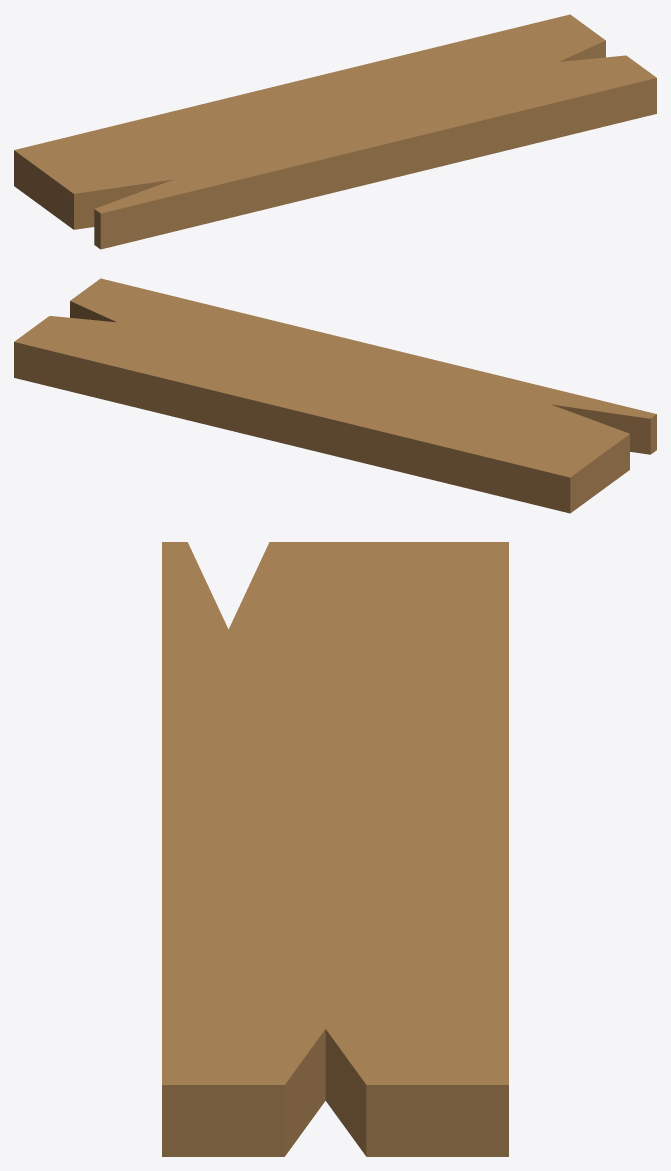
File: SRA_Wood_Plank_Single_03.glb
3 renders of one model, top to bottom at view 1: azimuth 30°, elevation 25°; view 2: azimuth 150°, elevation 25°; view 3: azimuth 270°, elevation 25°, orthographic. The views are drawn at different scales.
Parts seen in each view (by area): view 1: Wood_Plank_Single_03; view 2: Wood_Plank_Single_03; view 3: Wood_Plank_Single_03.
Boxes of the visible parts, bbox=[...] form: Wood_Plank_Single_03: bbox=[14, 14, 656, 249]; Wood_Plank_Single_03: bbox=[14, 278, 656, 513]; Wood_Plank_Single_03: bbox=[162, 542, 508, 1156].
Size of the model in its own units: 0.9145 by 0.0565 by 0.2469.
Materials: 1 (1 with a texture image).
